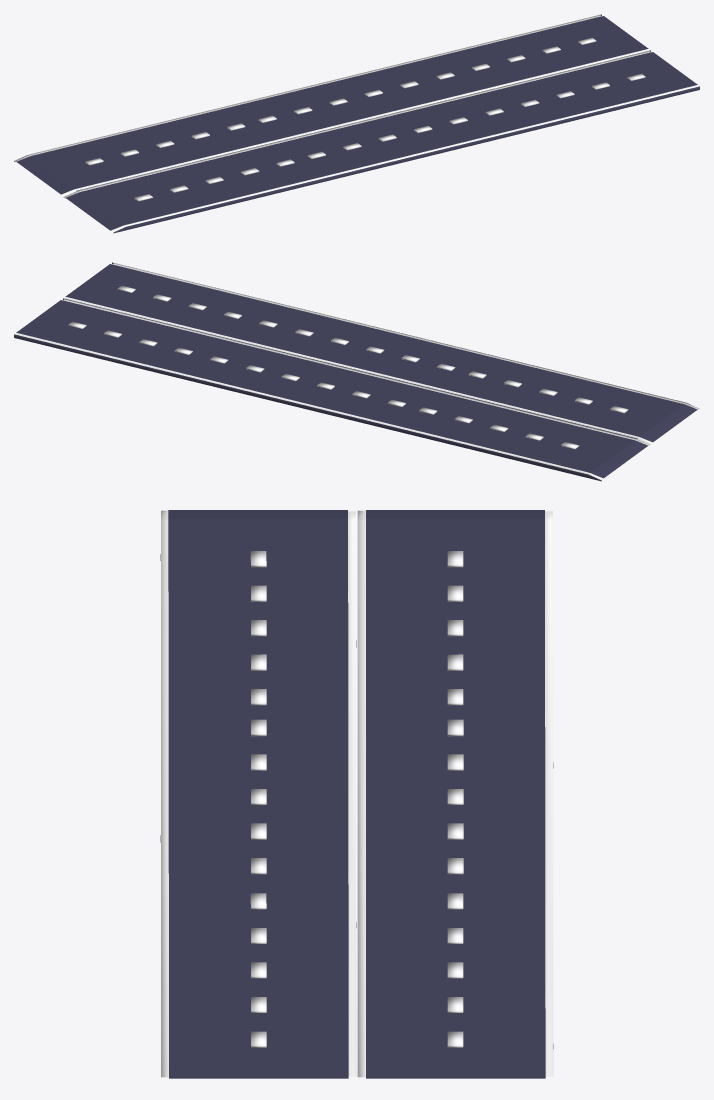
Rendered from road.glb.
3 renders of one model, top to bottom at view 1: azimuth 30°, elevation 25°; view 2: azimuth 150°, elevation 25°; view 3: azimuth 270°, elevation 25°, orthographic. The views are drawn at different scales.
Visible parts, largest first — view 1: right_road; view 2: right_road; view 3: right_road.
Part boxes in pixels (x1,y1,x2,y2): right_road: (14, 14, 699, 233); right_road: (14, 262, 699, 481); right_road: (160, 510, 553, 1078).
Size of the model in its own units: 83.46 by 0.6789 by 24.16.
